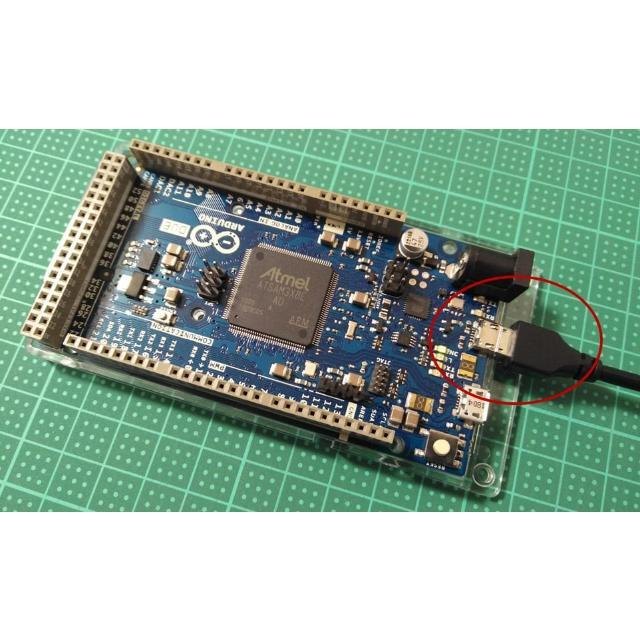Arduino-Due: (24, 141, 533, 480)
